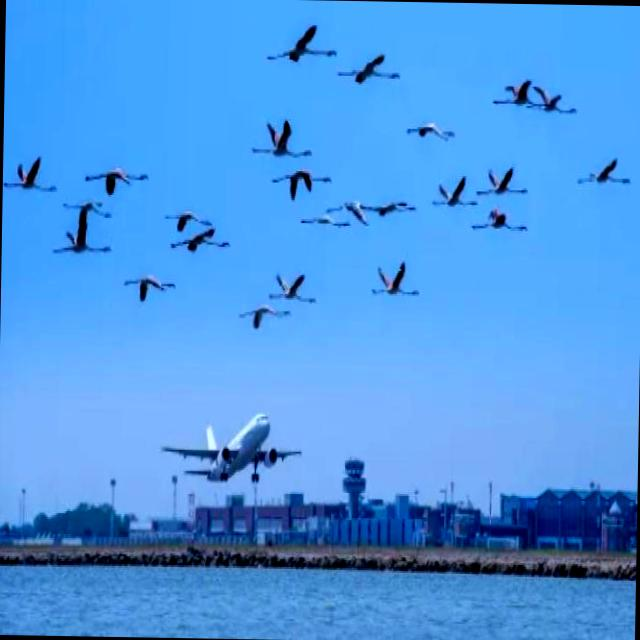bird: (261, 21, 340, 76), (252, 106, 324, 164), (46, 216, 118, 266), (336, 46, 406, 94), (367, 252, 423, 309), (262, 260, 319, 310), (268, 161, 332, 202), (89, 160, 156, 198), (2, 154, 58, 199), (478, 156, 534, 200), (575, 150, 632, 193), (121, 274, 182, 311), (166, 230, 238, 261), (398, 115, 467, 147), (482, 66, 532, 110), (471, 209, 536, 242), (162, 194, 215, 233), (528, 83, 580, 122), (238, 302, 294, 335), (367, 192, 421, 226), (432, 180, 480, 212), (290, 206, 348, 232), (339, 187, 372, 221)
